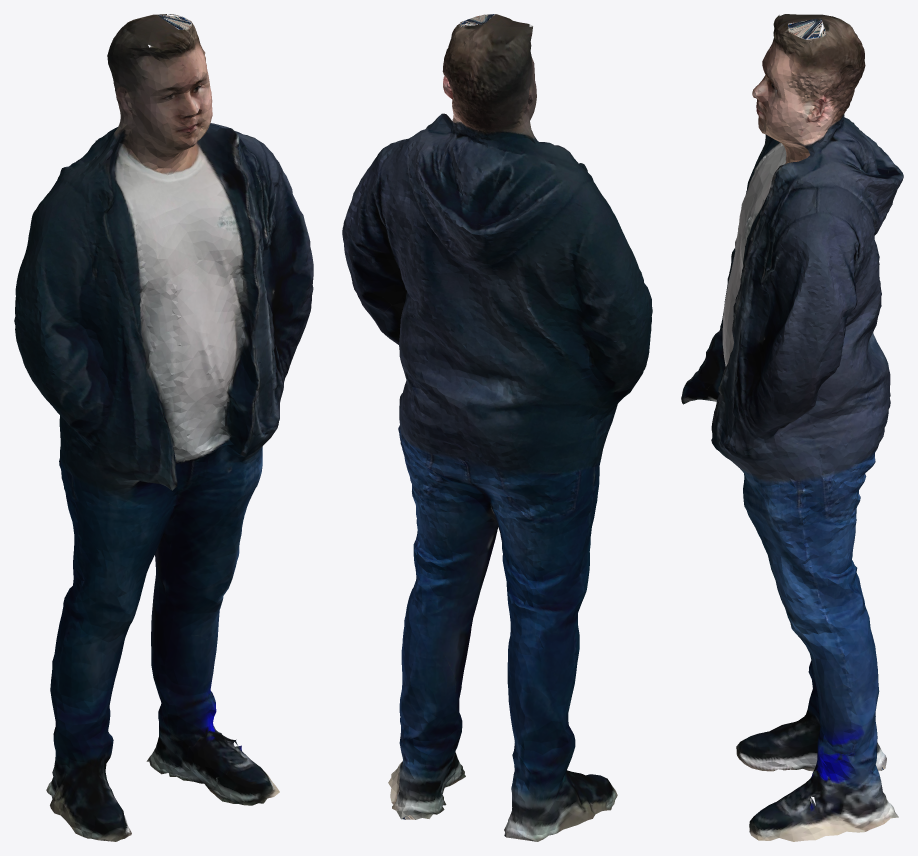
File: Stroganov.gltf
The picture shows the model from 3 angles, left to right: view 1: azimuth 30°, elevation 25°; view 2: azimuth 150°, elevation 25°; view 3: azimuth 270°, elevation 25°; orthographic projection.
Visible parts, largest first — view 1: Mesh_0.001; view 2: Mesh_0.001; view 3: Mesh_0.001.
Part boxes in pixels (x1,y1,x2,y2): Mesh_0.001: (14, 14, 313, 841); Mesh_0.001: (342, 14, 652, 841); Mesh_0.001: (681, 14, 903, 841).
Bounding box in the file's own units: 0.8803 × 2.29 × 0.5922.
Materials: 1 (1 with a texture image).
